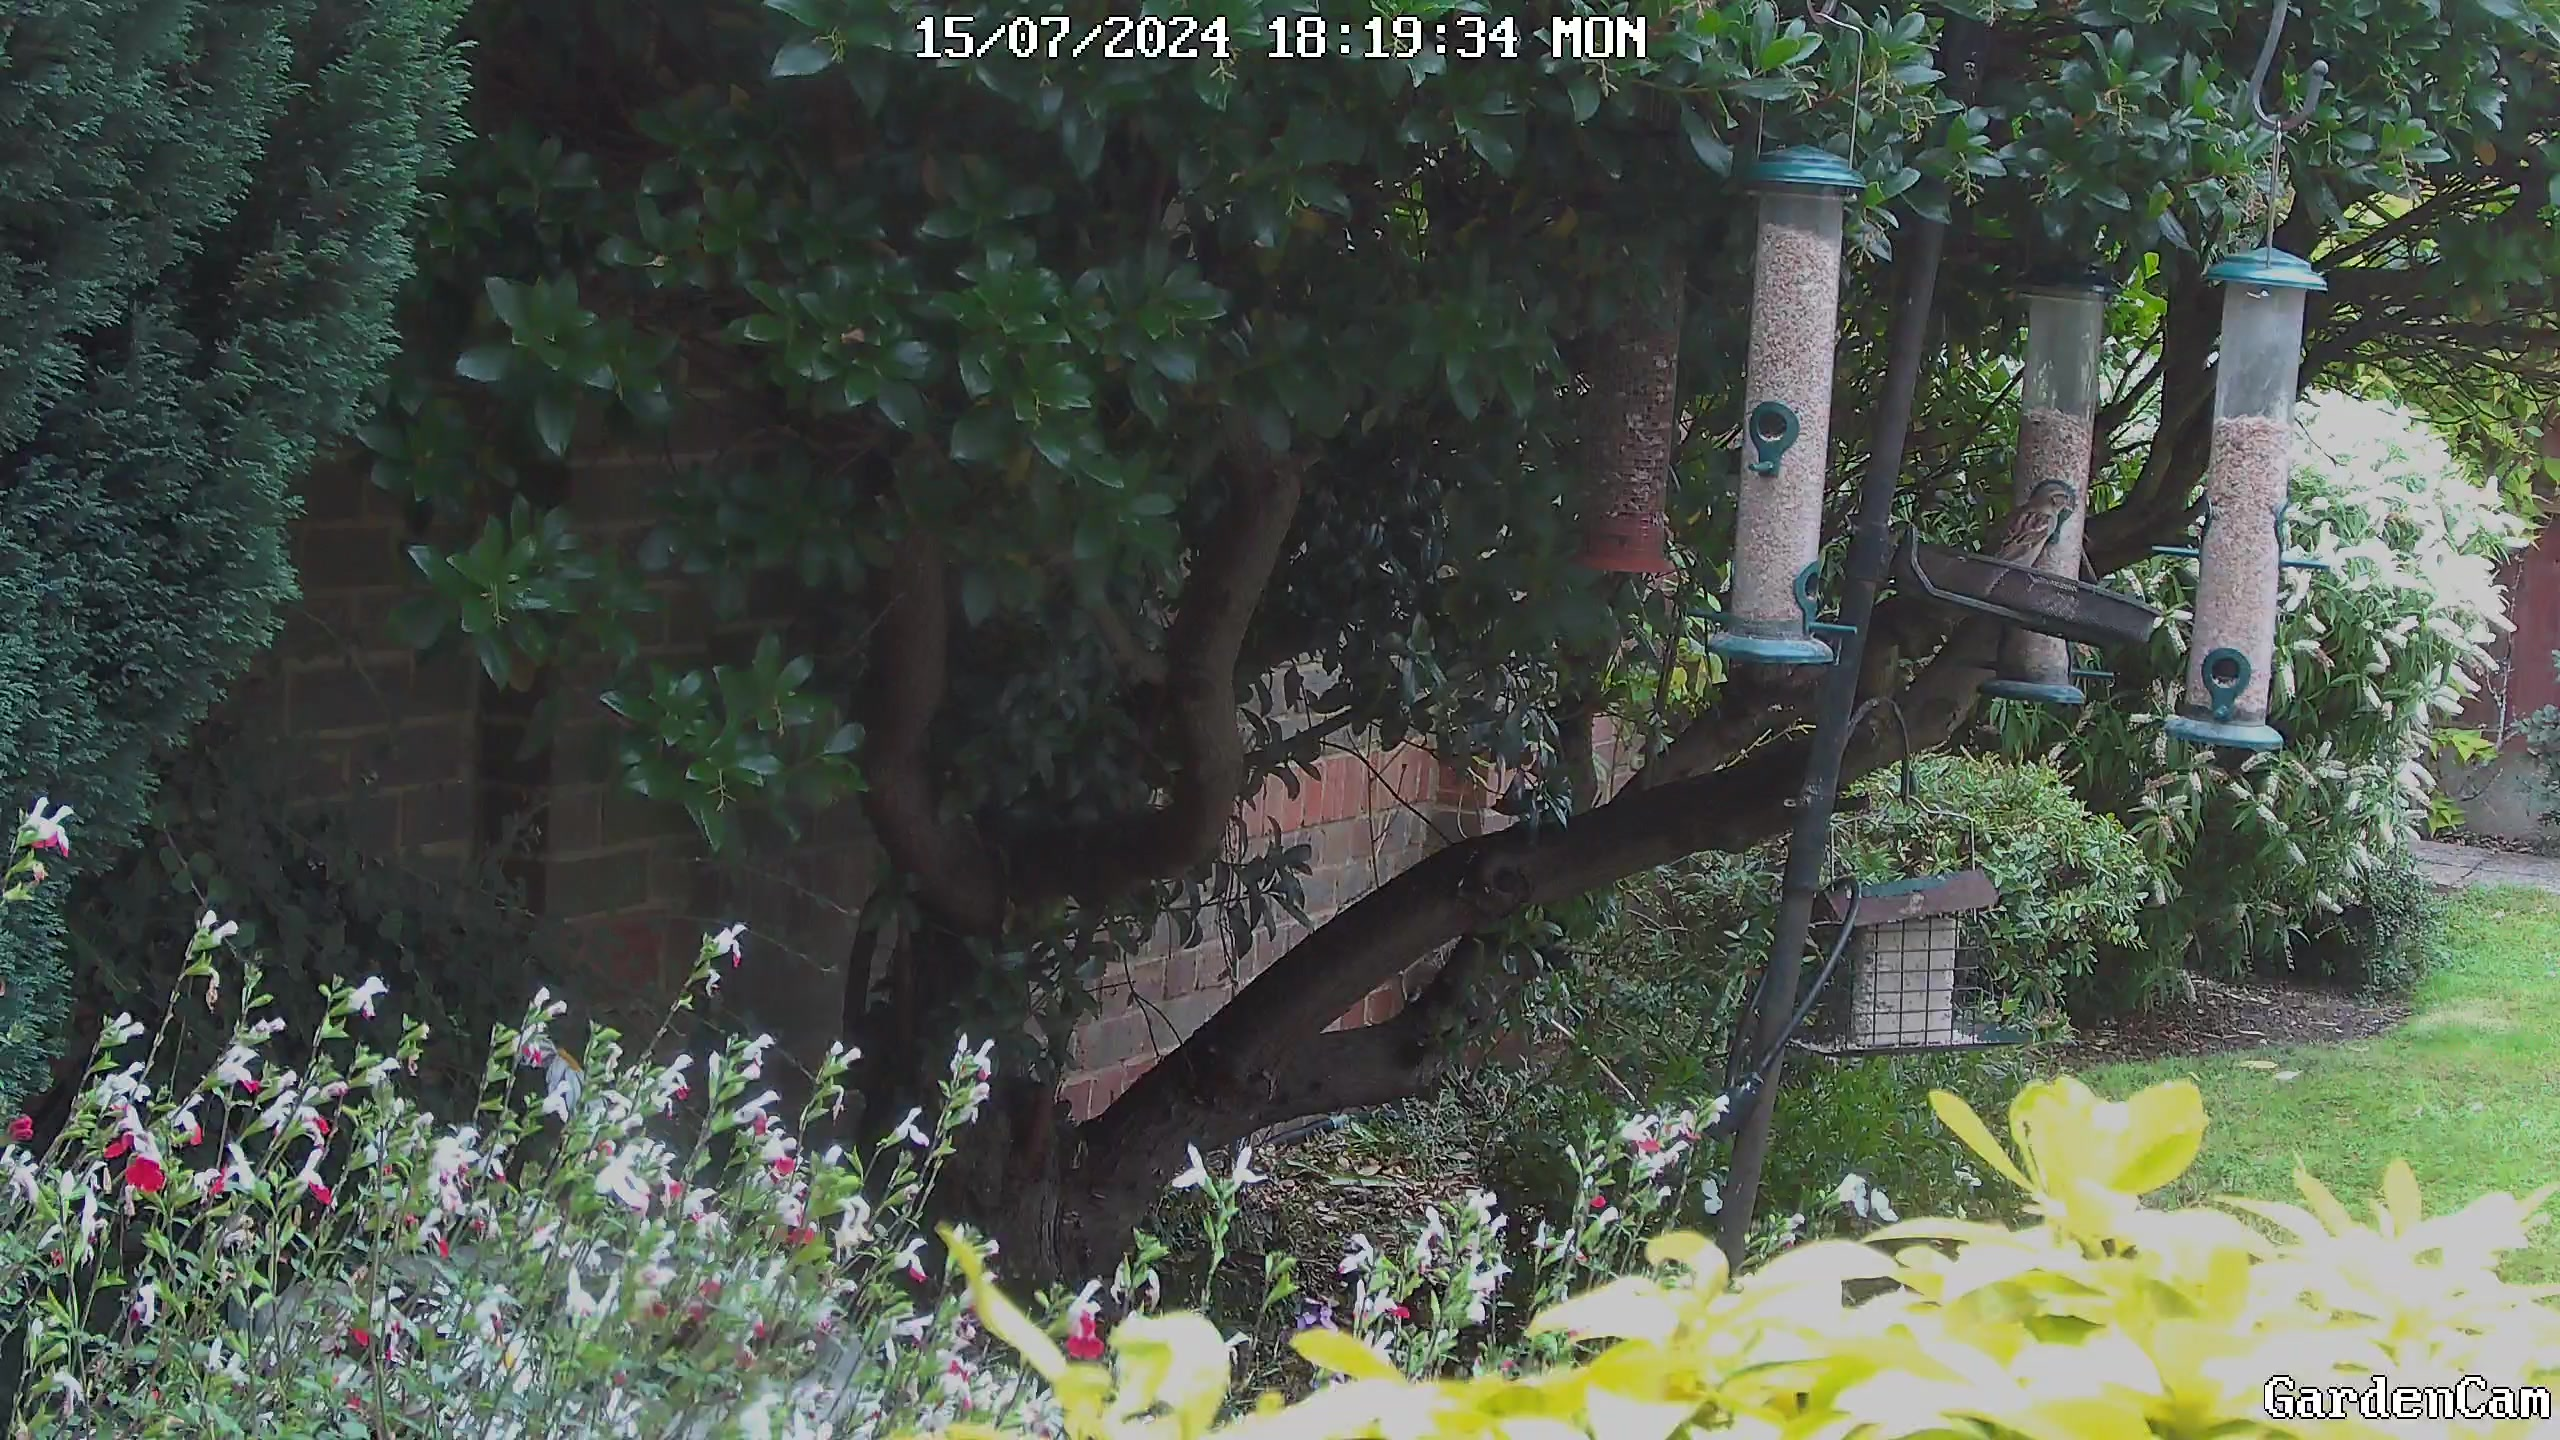House_Sparrow: (1953, 475, 2099, 601)
